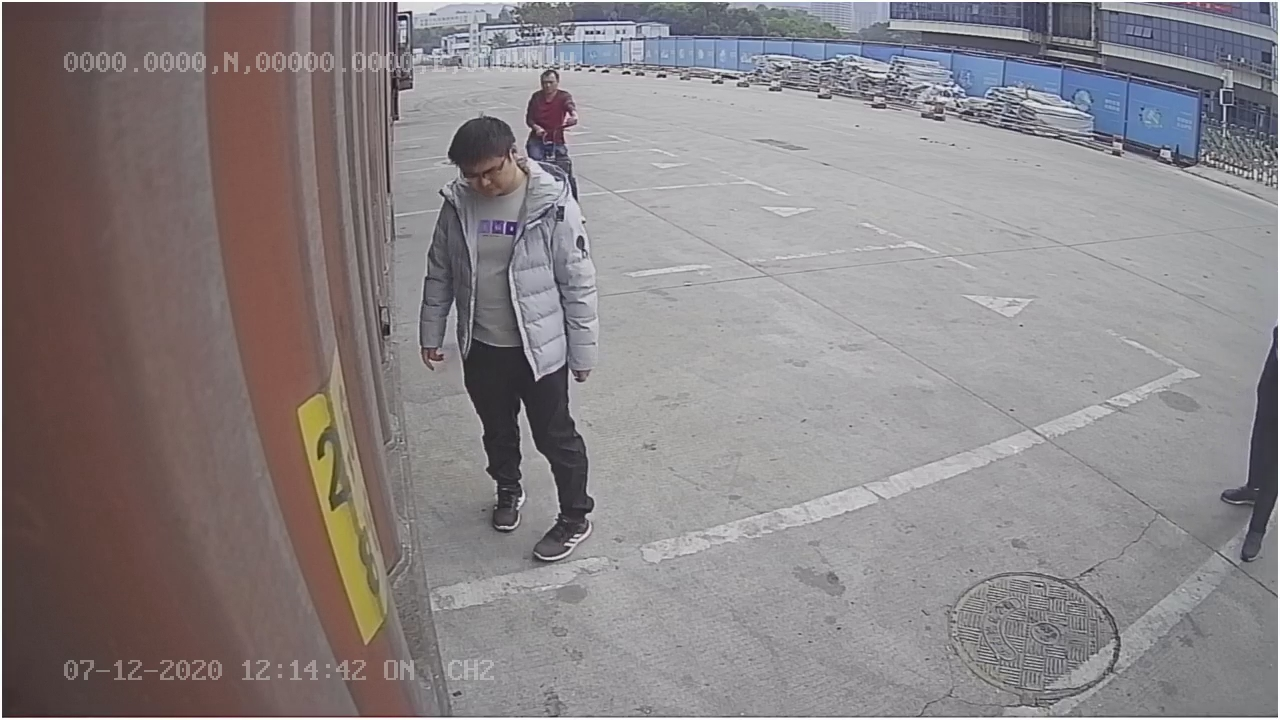person: (418, 112, 604, 559)
